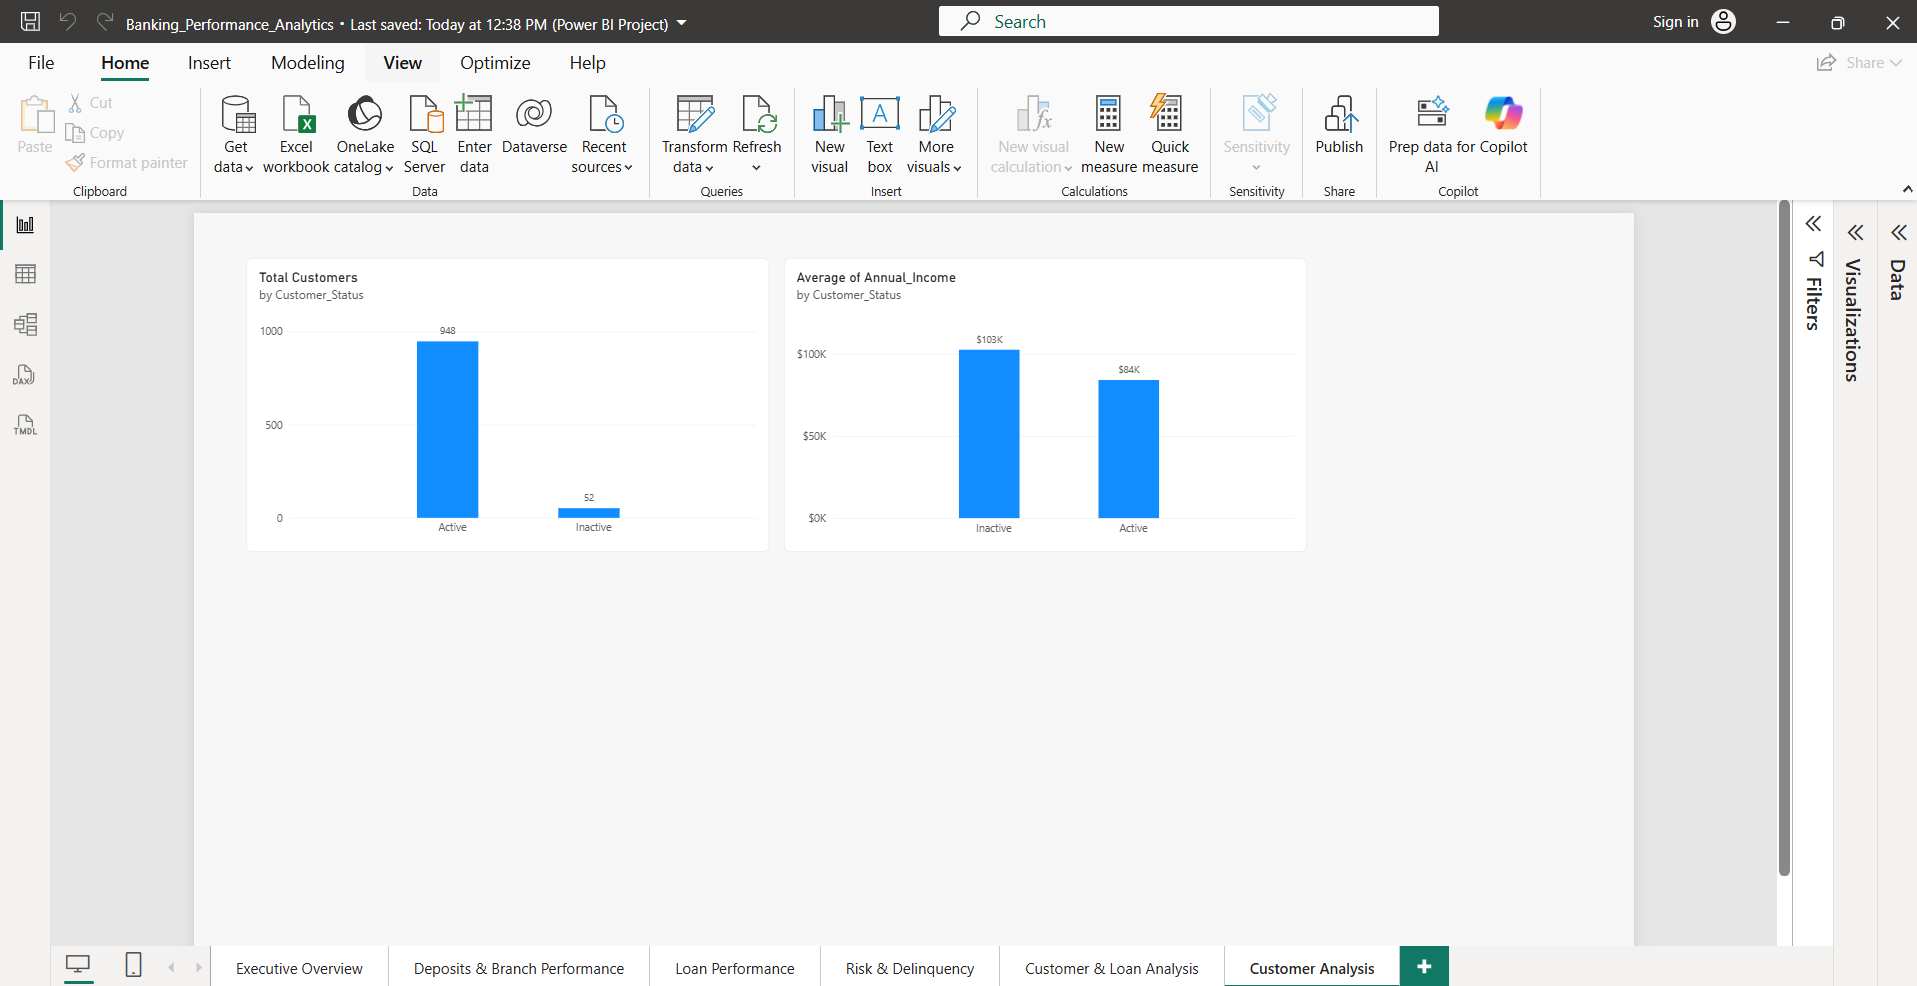

The page's visual inventory and layout, read from the dashboard file:
{"tool":"powerbi","page":{"name":"Customer Analysis","canvas":[1920,1080],"ordinal":5},"visuals":[{"type":"clusteredColumnChart","fields":{"Category":["Customers.Customer_Status"],"Y":["Accounts.Total Customers"]},"box":[70,60,696.7,391.7],"z":0},{"type":"clusteredColumnChart","fields":{"Category":["Customers.Customer_Status"],"Y":["Avg(Customers.Annual_Income)"]},"box":[786.7,60,697,392],"z":1}]}

Visuals, with their boxes on the page's 1920x1080 design canvas (x1, y1, x2, y2). These are canvas units, not pixel positions in the 1917x986 screenshot, which may show the page scaled, cropped or inside an application window:
clusteredColumnChart - Customers.Customer_Status x Accounts.Total Customers: (left=70, top=60, right=767, bottom=452)
clusteredColumnChart - Customers.Customer_Status x Avg(Customers.Annual_Income): (left=787, top=60, right=1484, bottom=452)
